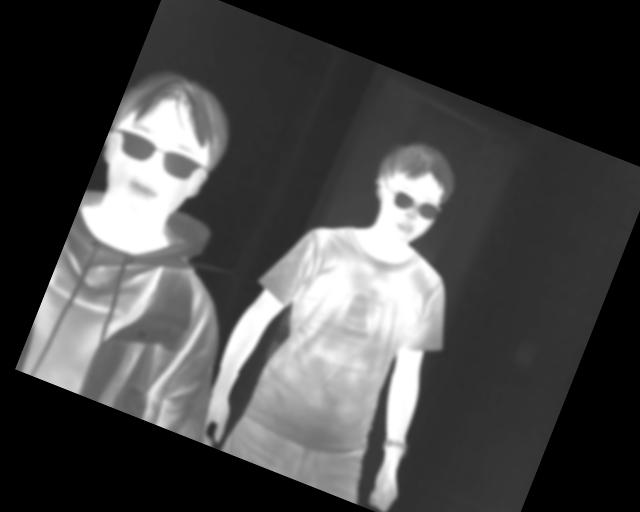face: (82, 55, 243, 241), (357, 131, 465, 253)
